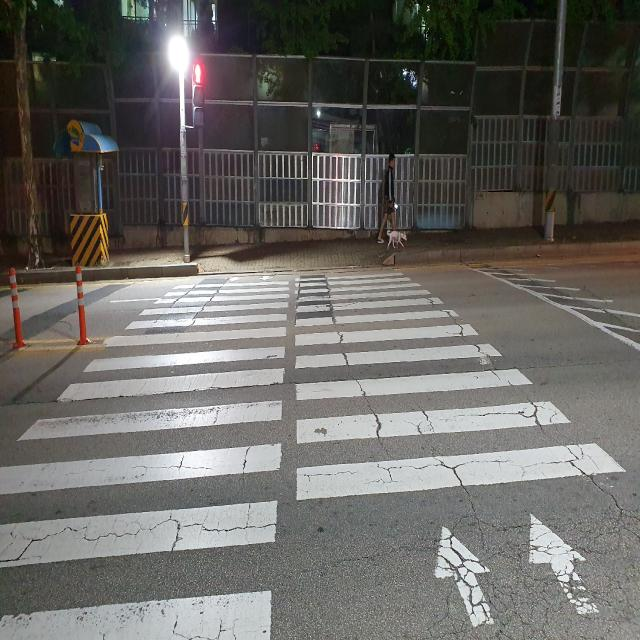빨간불: (191, 58, 206, 134)
횡단보도: (2, 262, 630, 638)
